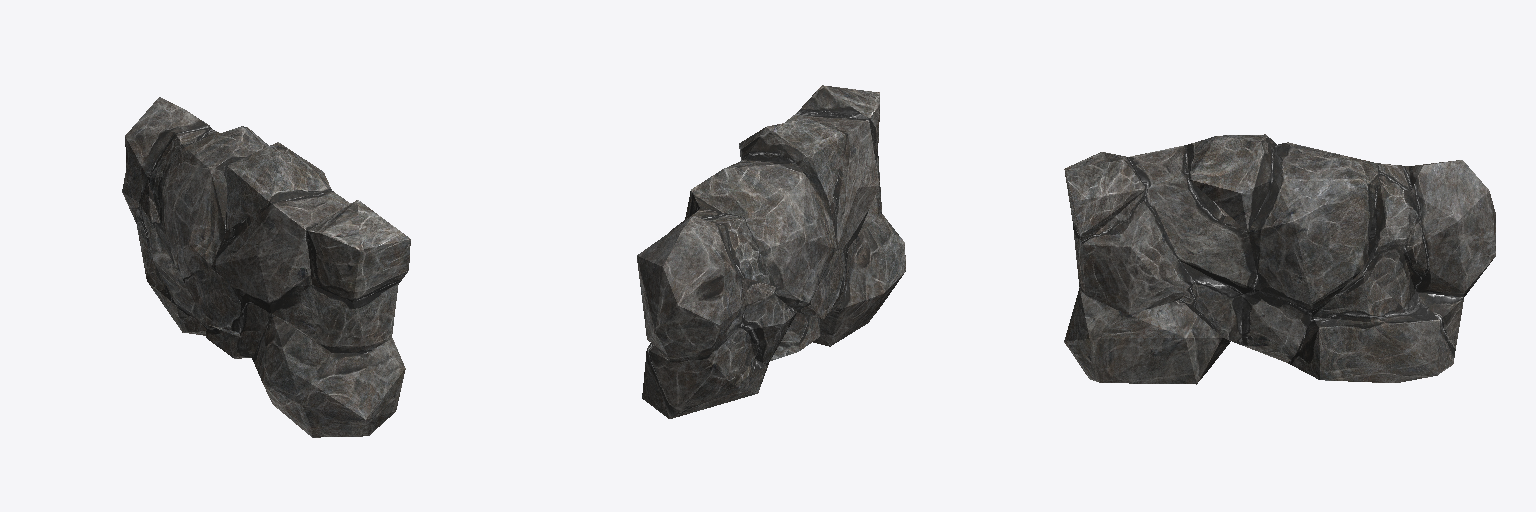
3 renders of one model, left to right at view 1: azimuth 30°, elevation 25°; view 2: azimuth 150°, elevation 25°; view 3: azimuth 270°, elevation 25°, orthographic.
Parts seen in each view (by area): view 1: Rocks_03; view 2: Rocks_03; view 3: Rocks_03.
Part boxes in pixels (left/top/right/bottom): Rocks_03: left=122, top=97, right=410, bottom=437; Rocks_03: left=637, top=85, right=905, bottom=418; Rocks_03: left=1064, top=134, right=1495, bottom=384.
Bounding box in the file's own units: 82.75 × 147 × 241.
1 materials, 1 textured.